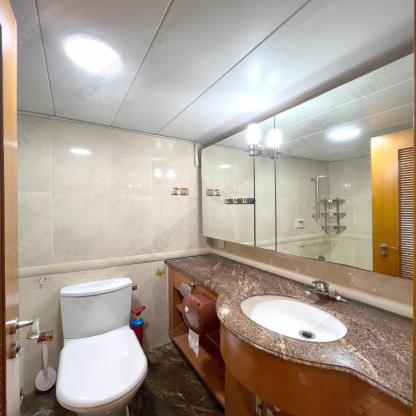Toilet: (54, 278, 149, 416)
Toilet Sink: (212, 272, 404, 371)
